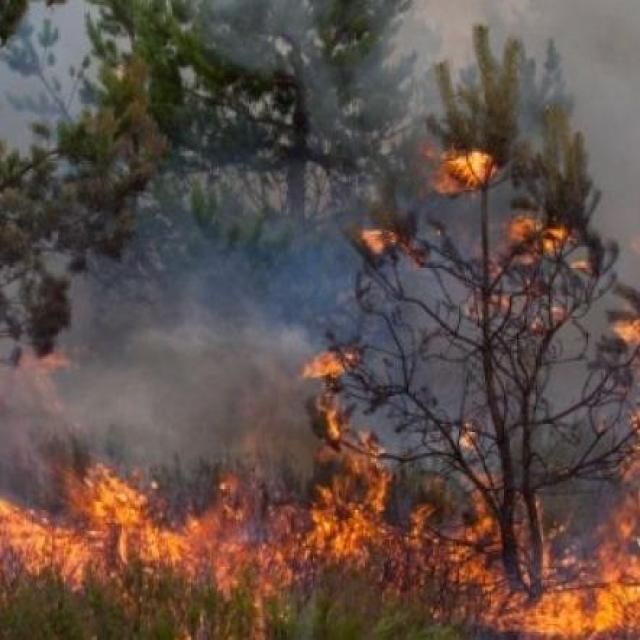Fire: (0, 470, 633, 640), (312, 345, 400, 472), (441, 132, 498, 194), (366, 222, 398, 248)
Smoke: (0, 234, 314, 468)
